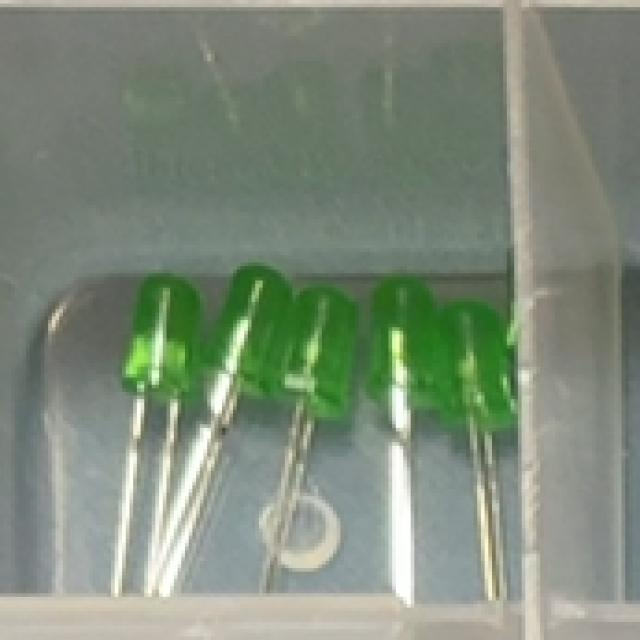GREEN_LED: (152, 266, 290, 620), (112, 275, 206, 619), (436, 293, 528, 621), (276, 282, 356, 632), (369, 277, 445, 630)
